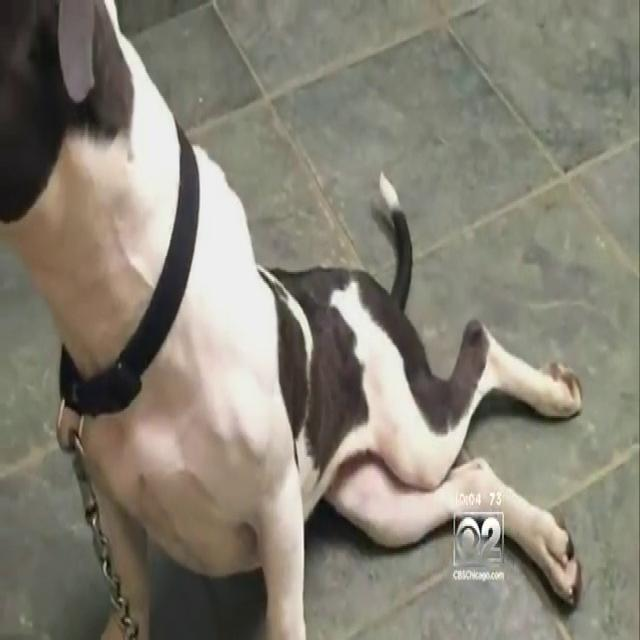normal_animals: (3, 3, 588, 633)
